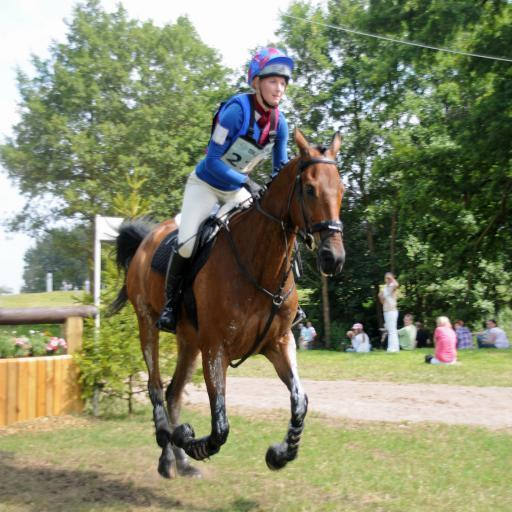horse: (102, 125, 348, 480)
